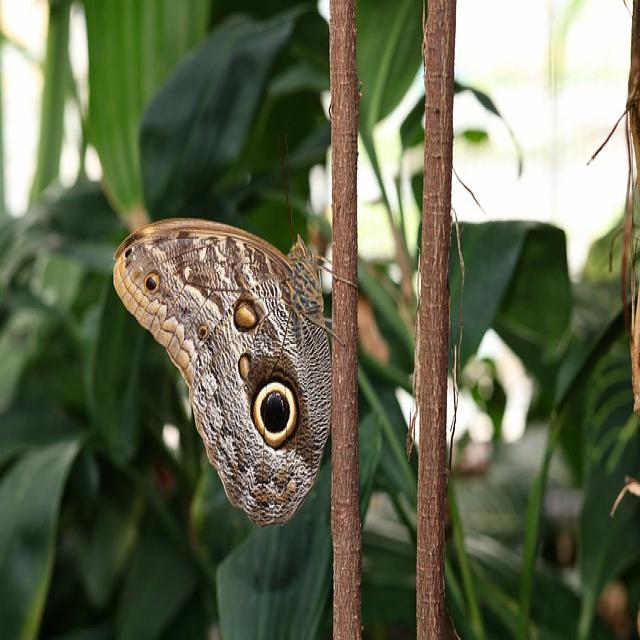butterfly: (112, 219, 332, 529)
